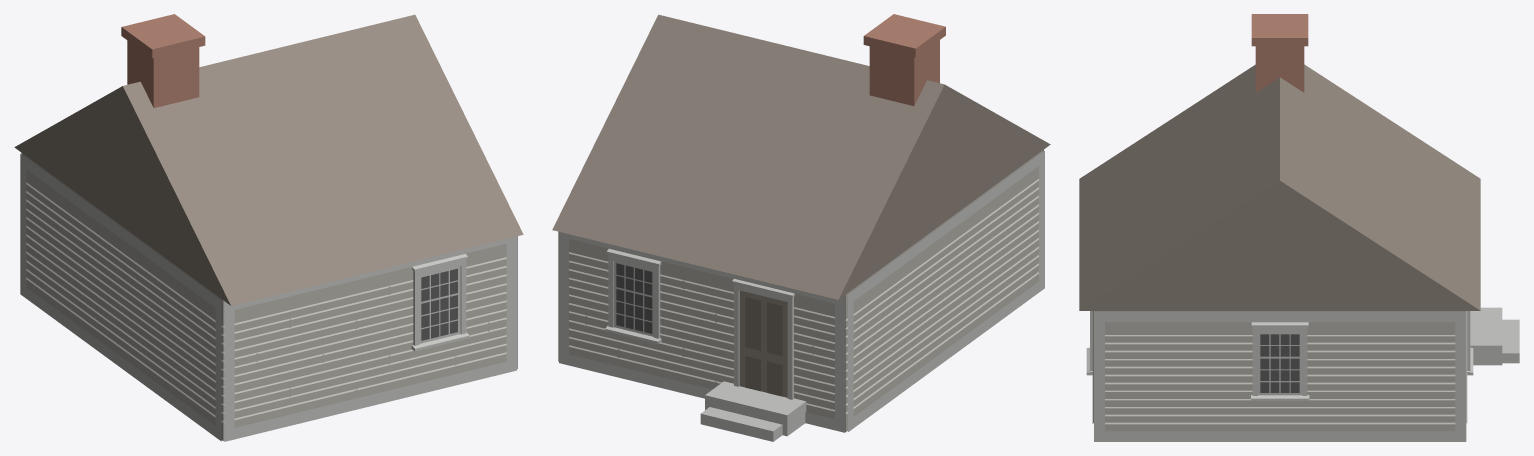
Rendered from recon_1835_blk_south_water_wells_d3_04__inferred_1835.glb.
3 views of the same model, side by side, from view 1: azimuth 30°, elevation 25°; view 2: azimuth 150°, elevation 25°; view 3: azimuth 270°, elevation 25° (orthographic). The views are drawn at different scales.
Parts seen in each view (by area): view 1: recon_1835_blk_south_water_wells_d3_04__inferred_1835; view 2: recon_1835_blk_south_water_wells_d3_04__inferred_1835; view 3: recon_1835_blk_south_water_wells_d3_04__inferred_1835.
Part boxes in pixels (x1,y1,x2,y2): recon_1835_blk_south_water_wells_d3_04__inferred_1835: (14,14,523,441); recon_1835_blk_south_water_wells_d3_04__inferred_1835: (552,14,1050,441); recon_1835_blk_south_water_wells_d3_04__inferred_1835: (1079,14,1519,441).
Size of the model in its own units: 5.55 by 5.74 by 7.59.
